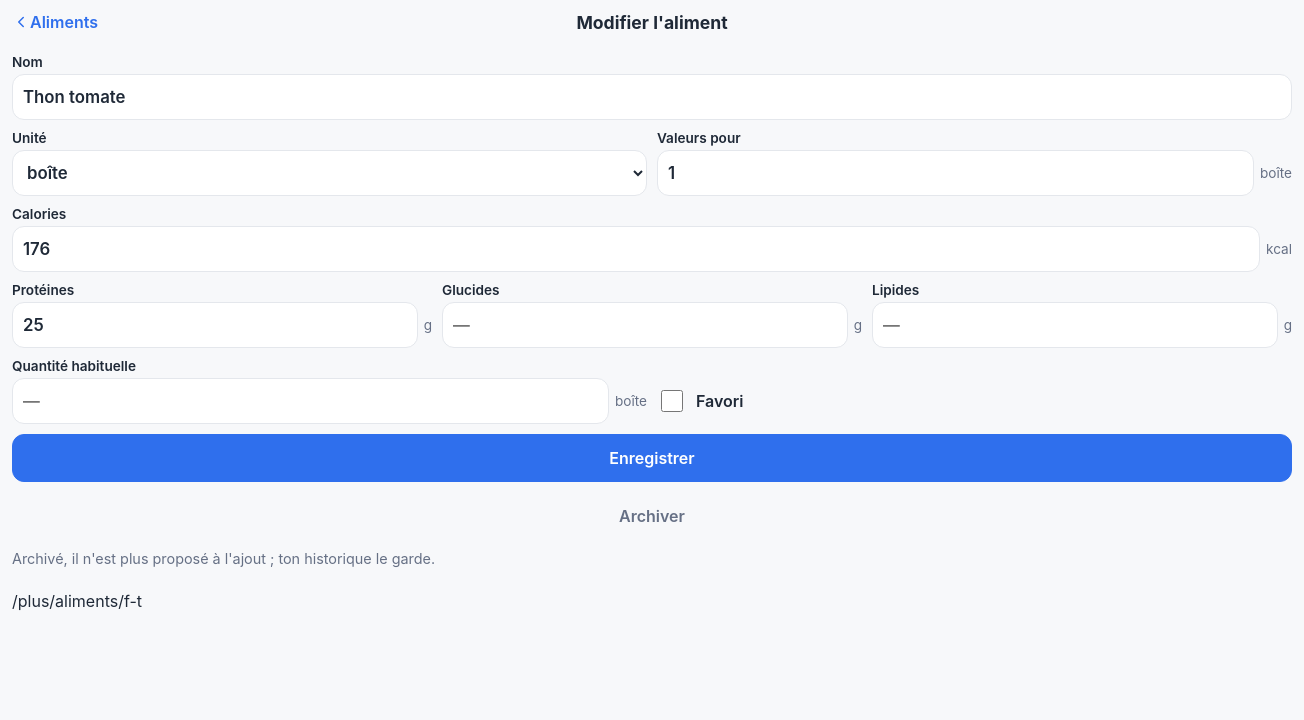
Test: Plus › Aliments › modifier un aliment : formulaire prérempli sans ajout au repas ; les anciennes lignes du journal ne bougent pas
Expected: the heading "Modifier l'aliment" is shown, [576,12,728,32]
Expected: the field labelled "Nom" holds "Thon tomate", [12,74,1292,120]
Replace the text in the field named "Calories en kcal" with "190" at (636, 249), box [12,226,1260,272]
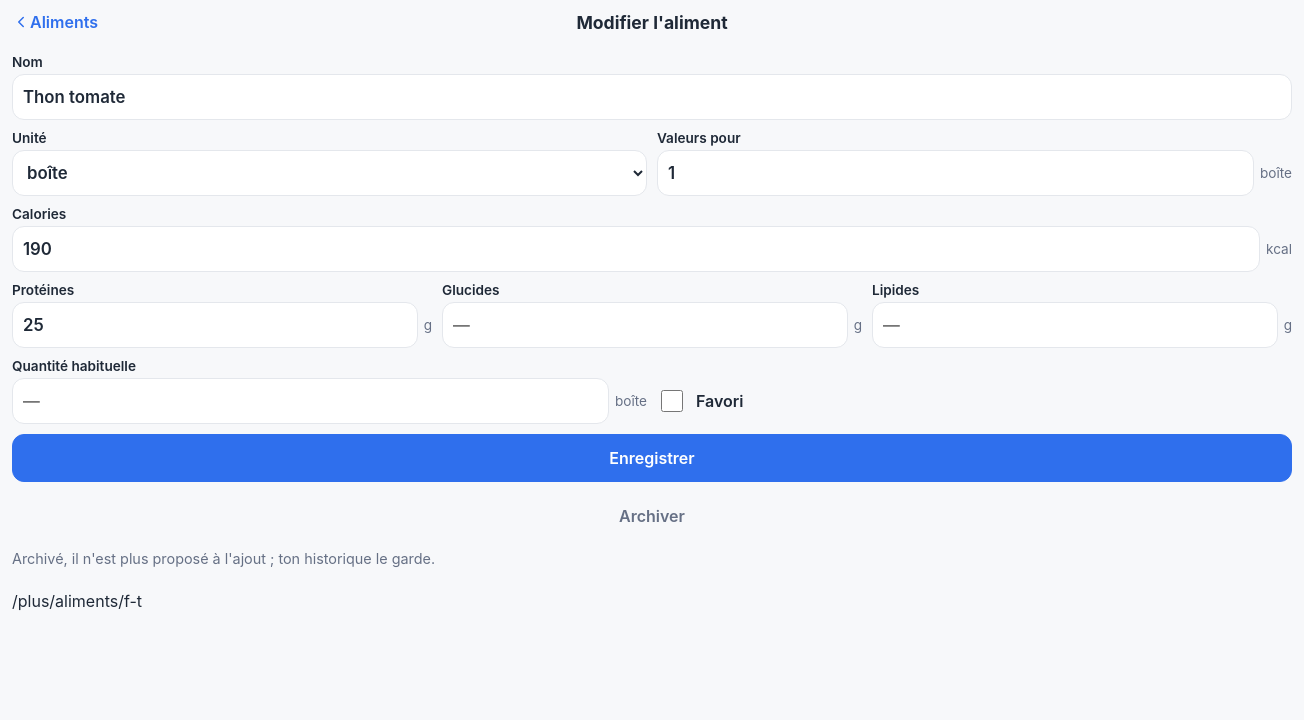
Replace the text in the field labelled "Nom" with "Thon à la tomate" at (652, 97), box [12,74,1292,120]
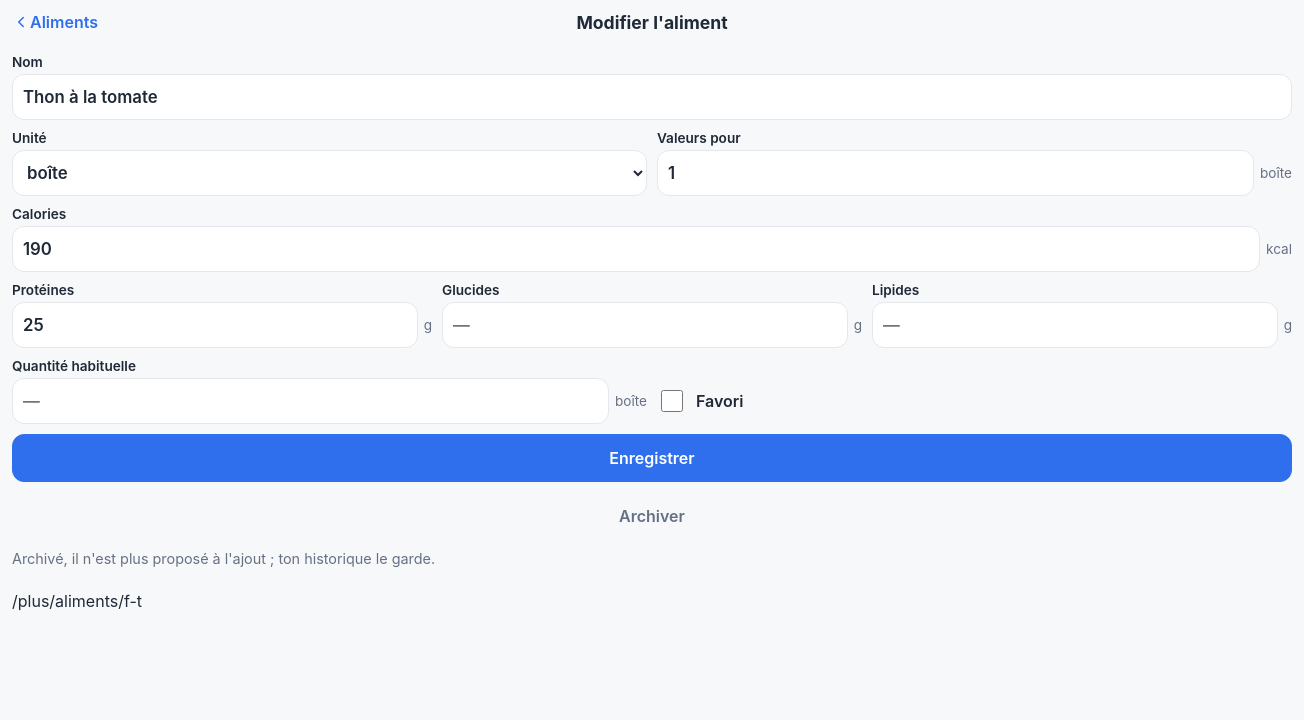
Click the button "Enregistrer" at (652, 458), box [12,434,1292,482]
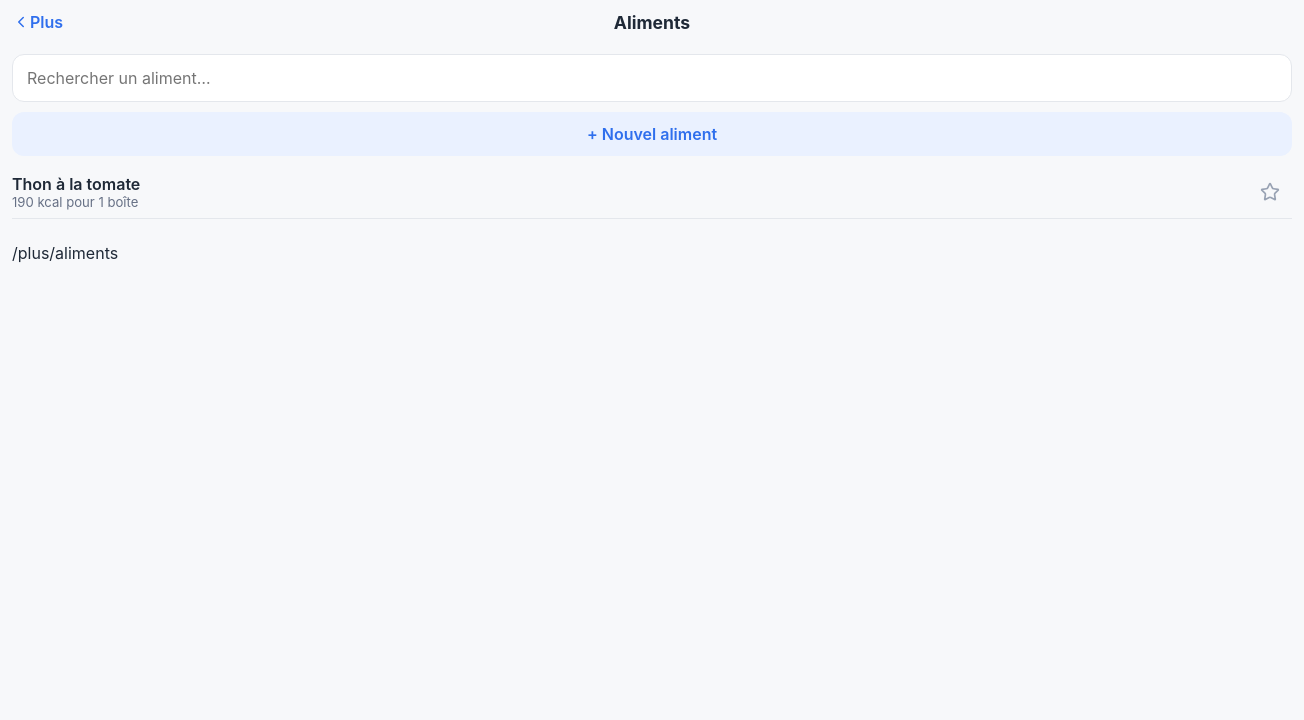
Expected: the text with test id "url" reads "/plus/aliments", [12,243,118,263]
